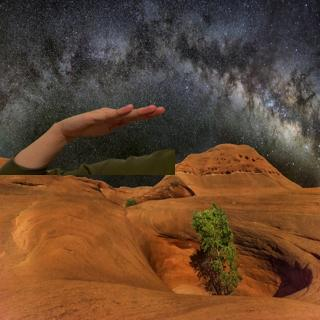WAIT: (51, 98, 171, 142)
